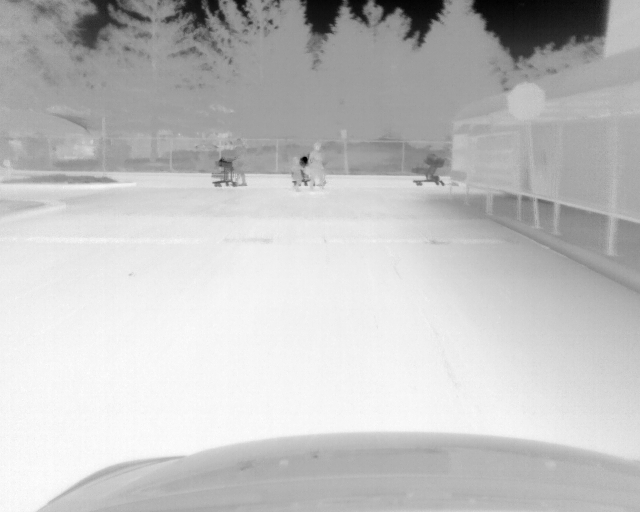people: (304, 141, 328, 190), (229, 138, 248, 187), (289, 157, 302, 188)
